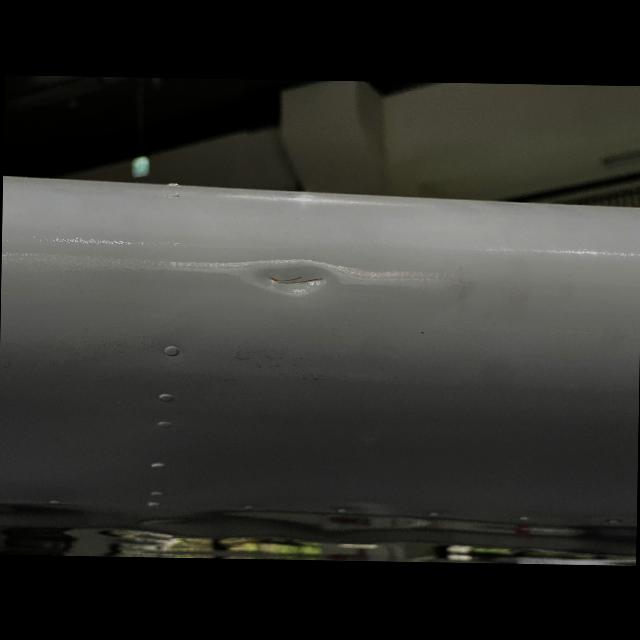dent: (227, 254, 360, 300)
